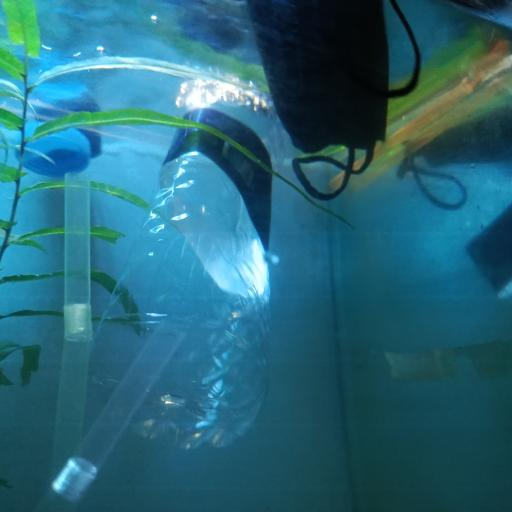bottle_cap: (14, 130, 92, 172)
mask: (249, 0, 426, 200)
plastic_bottle: (92, 87, 271, 458)
plastic_straw: (313, 35, 512, 183), (47, 322, 190, 512), (325, 48, 512, 184), (50, 169, 98, 512)
